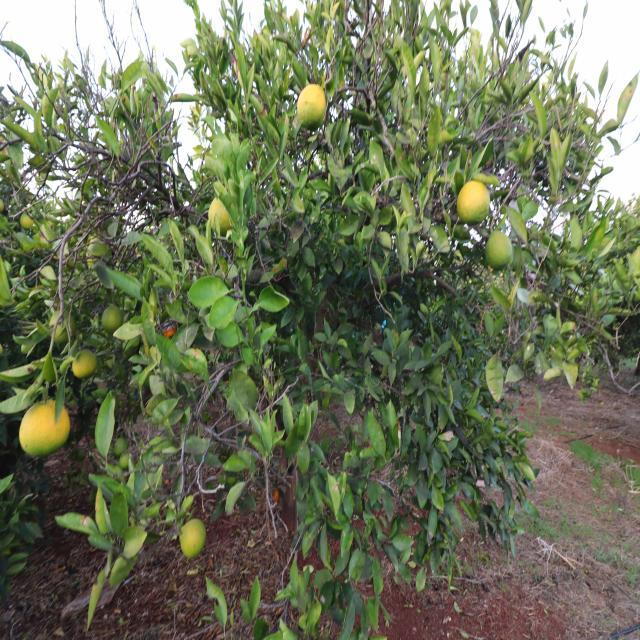Jeruk Belum Matang: (20, 400, 70, 459), (458, 180, 490, 226), (298, 84, 328, 130), (180, 518, 207, 558), (209, 197, 234, 240), (486, 231, 512, 272), (72, 348, 98, 379), (50, 310, 74, 340), (102, 306, 124, 336), (89, 241, 110, 268), (20, 213, 34, 230)
